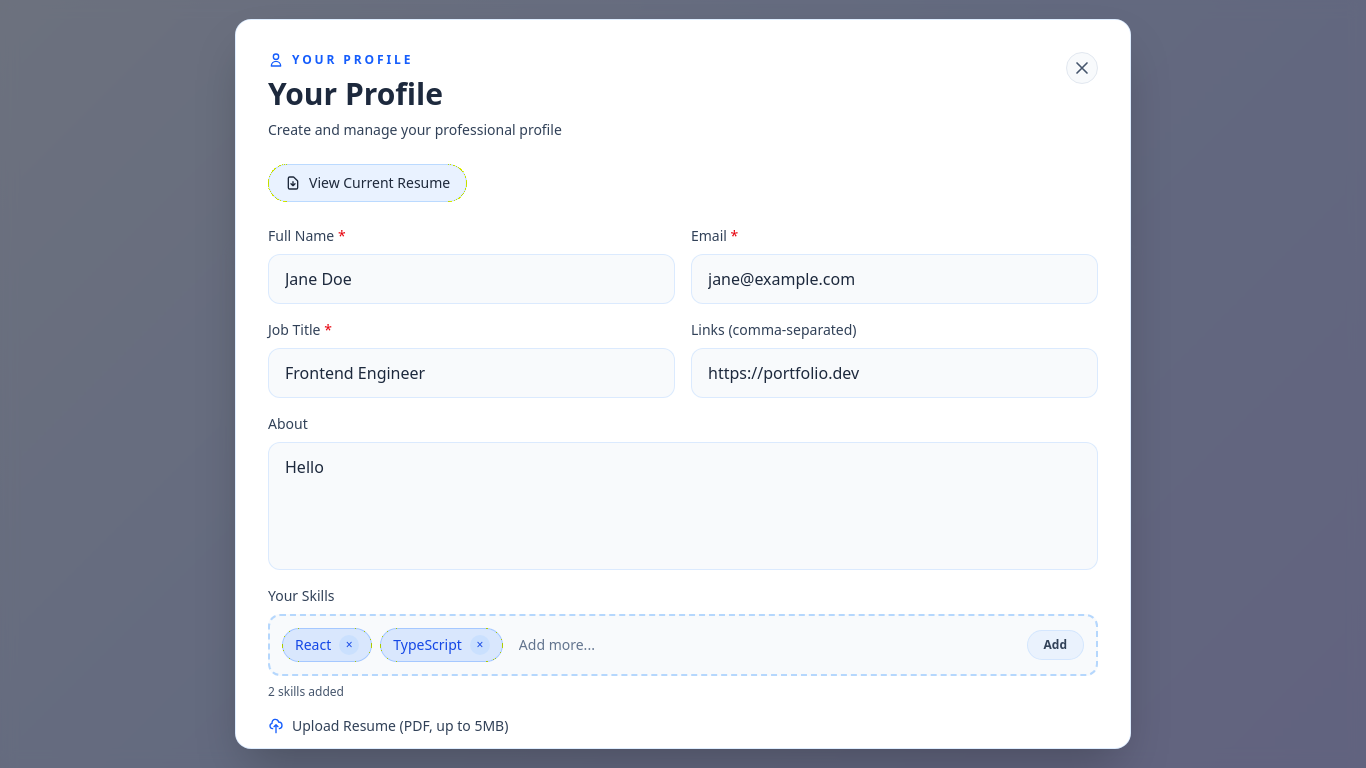
Scenario: ProfileModal › prefills data and saves profile
Replace the text in the field labelled "Full Name *" with "Jane Updated" at (472, 279), box x1=268 y1=254 x2=675 y2=304
(page scrolled)
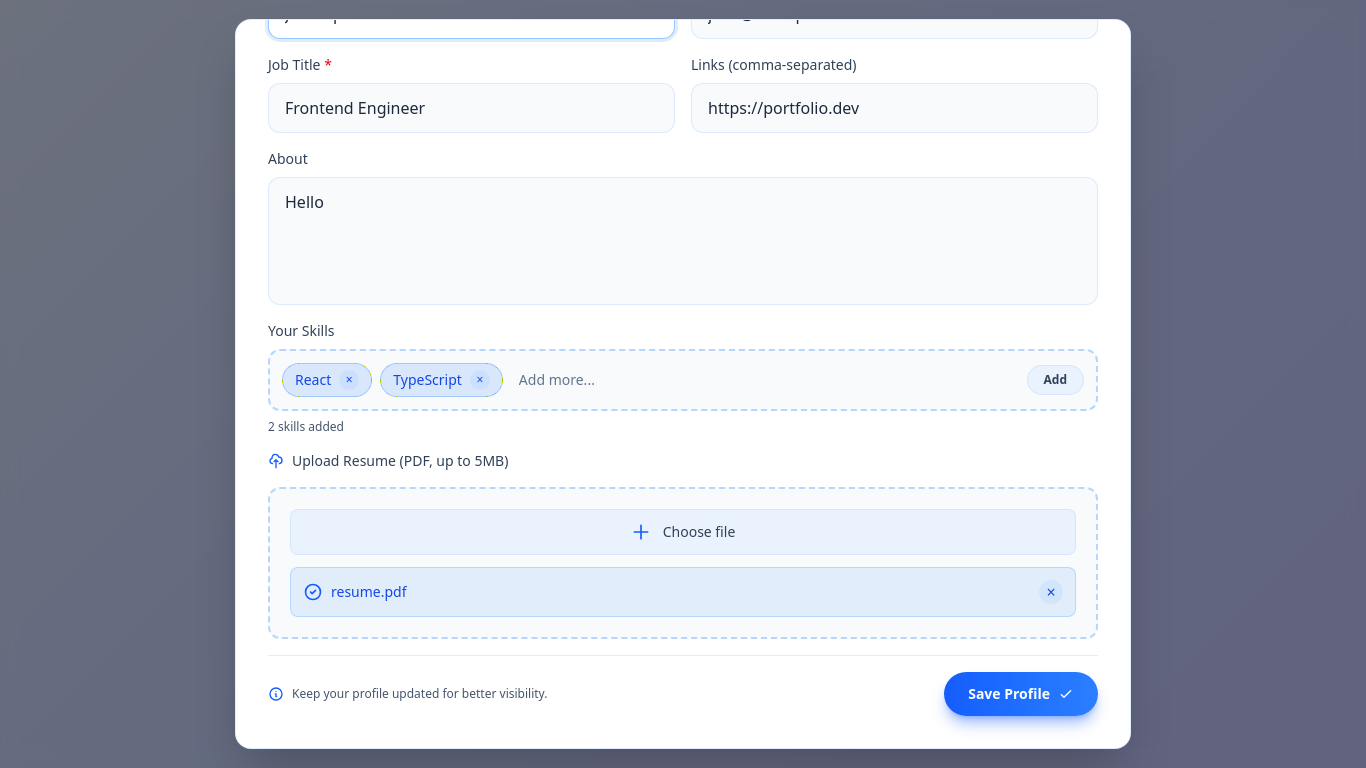
Click the button "Save Profile" at (1021, 694), box x1=944 y1=672 x2=1098 y2=716
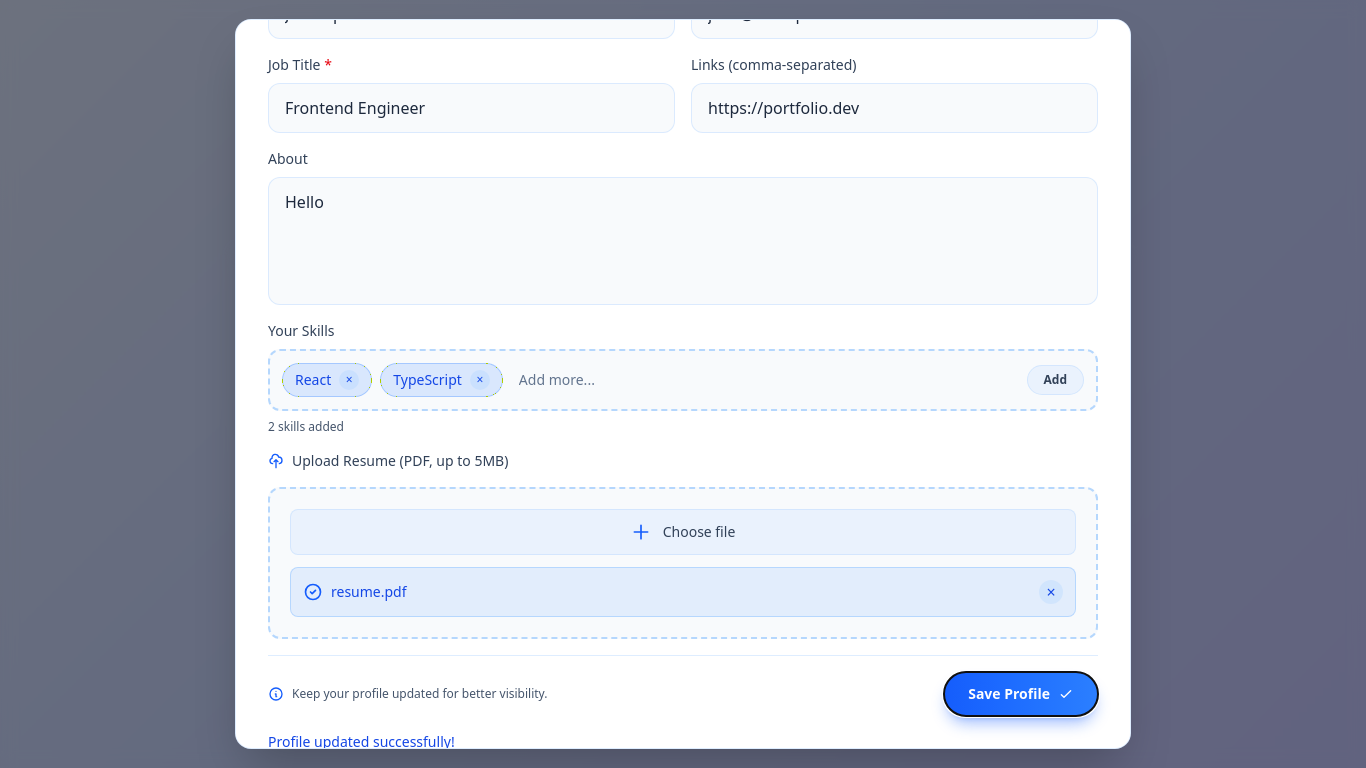
expect the text "Profile updated successfully!" is shown: met, box x1=268 y1=732 x2=455 y2=749
